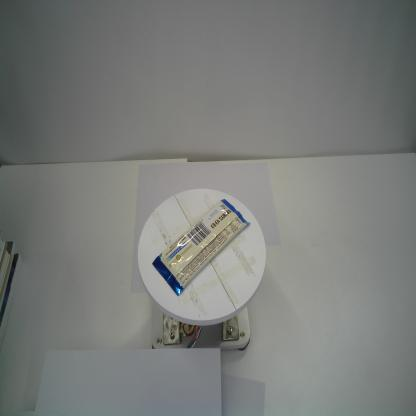Chocolate: (149, 195, 250, 300)
